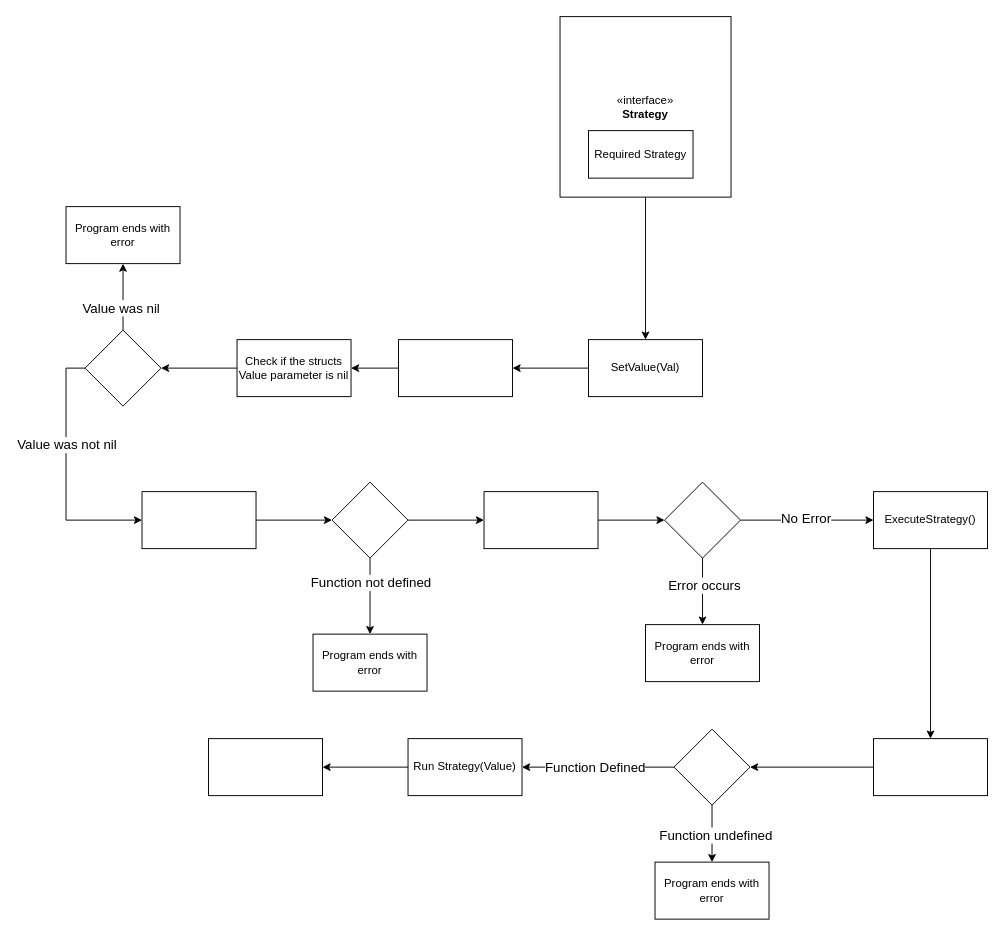
Image size: 1004x936. Some labels were removed from this diagram. The shapes that lost their labels are listed below. From the top down, each one's centre as x and y in pixels, then its label:
point 455,368: CheckCriteria()
point 198,520: Check for defined Criteria function
point 540,520: Run Criteria(Value)
point 265,767: Output is returned
point 930,767: Check for defined Strategy Function
